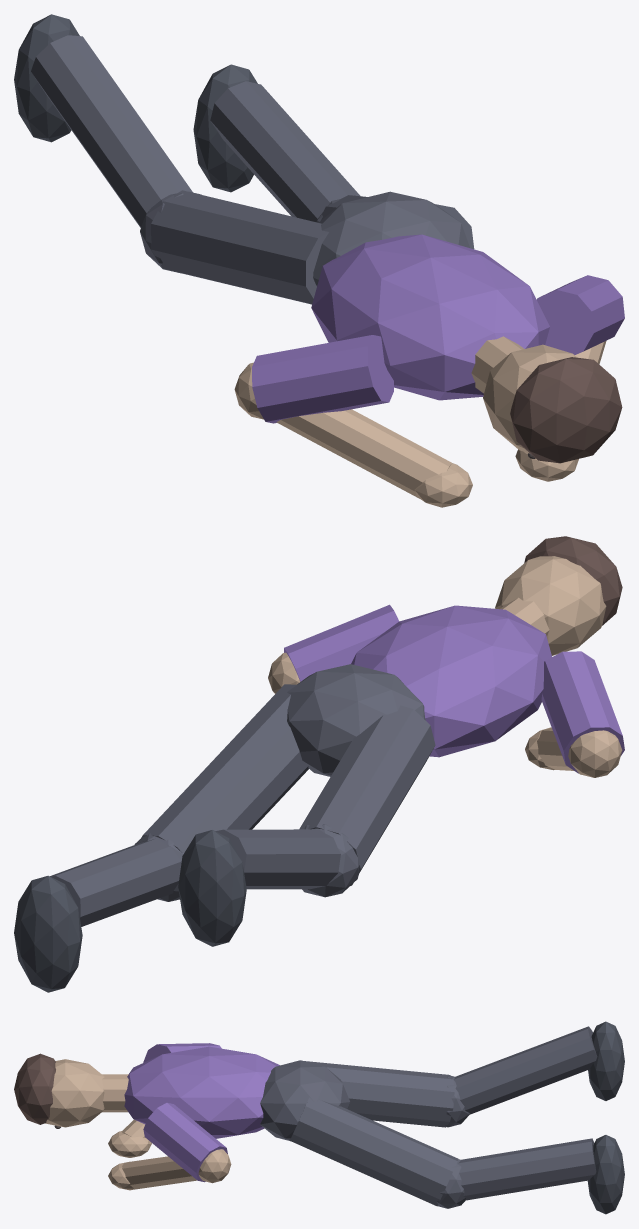
The picture shows the model from 3 angles, top to bottom: view 1: azimuth 30°, elevation 25°; view 2: azimuth 150°, elevation 25°; view 3: azimuth 270°, elevation 25°; orthographic projection. The views are drawn at different scales.
Parts seen in each view (by area): view 1: world; view 2: world; view 3: world.
Part boxes in pixels (left/top/right/bottom): world: left=14, top=14, right=624, bottom=507; world: left=14, top=536, right=624, bottom=992; world: left=14, top=1021, right=624, bottom=1214.
Size of the model in its own units: 0.93 by 0.52 by 2.08.
